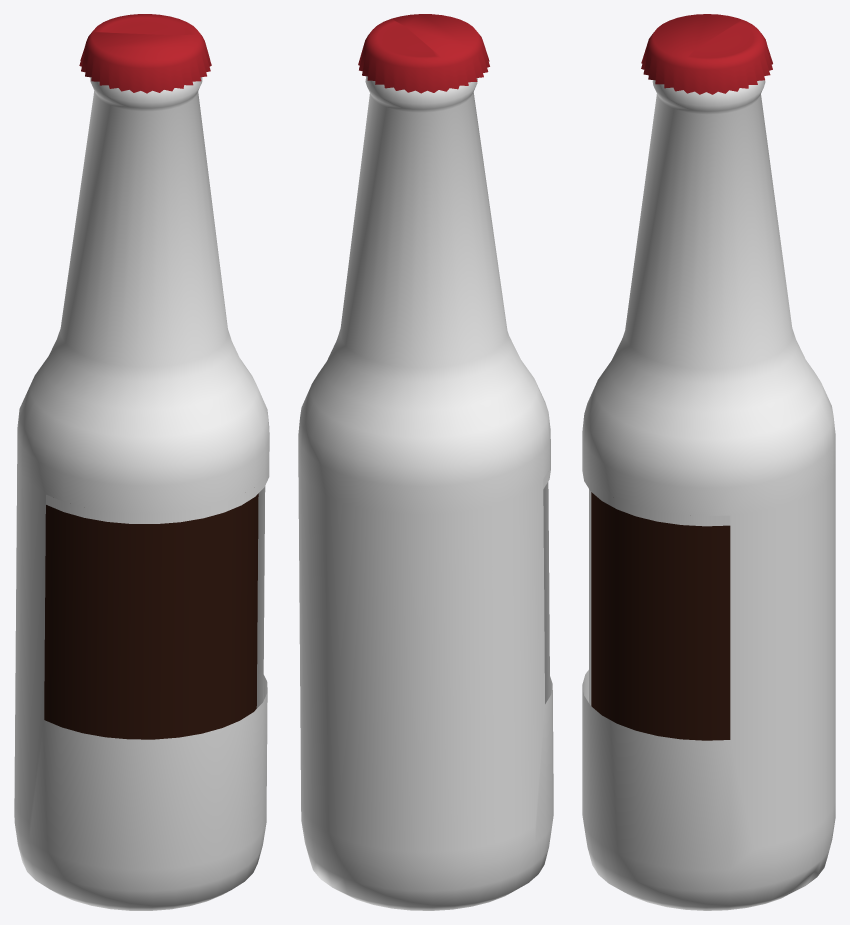
The model's file is cerveza.glb.
3 renders of one model, left to right at view 1: azimuth 30°, elevation 25°; view 2: azimuth 150°, elevation 25°; view 3: azimuth 270°, elevation 25°, orthographic.
Visible parts, largest first — view 1: Círculo.004, Círculo.008, tapa.003, Círculo.009; view 2: Círculo.004, tapa.003, Círculo.009; view 3: Círculo.004, Círculo.008, tapa.003, Círculo.009.
Boxes of the visible parts, x1=… form: Círculo.004: x1=14, y1=77, x2=269, y2=910; Círculo.008: x1=44, y1=493, x2=258, y2=739; tapa.003: x1=79, y1=14, x2=211, y2=93; Círculo.009: x1=256, y1=486, x2=265, y2=708; Círculo.004: x1=298, y1=76, x2=553, y2=910; tapa.003: x1=358, y1=14, x2=489, y2=93; Círculo.009: x1=543, y1=482, x2=549, y2=703; Círculo.004: x1=582, y1=80, x2=835, y2=910; Círculo.008: x1=591, y1=492, x2=730, y2=740; tapa.003: x1=641, y1=14, x2=772, y2=94; Círculo.009: x1=589, y1=489, x2=591, y2=705.
Size of the model in its own units: 23.88 by 85.89 by 23.56.
